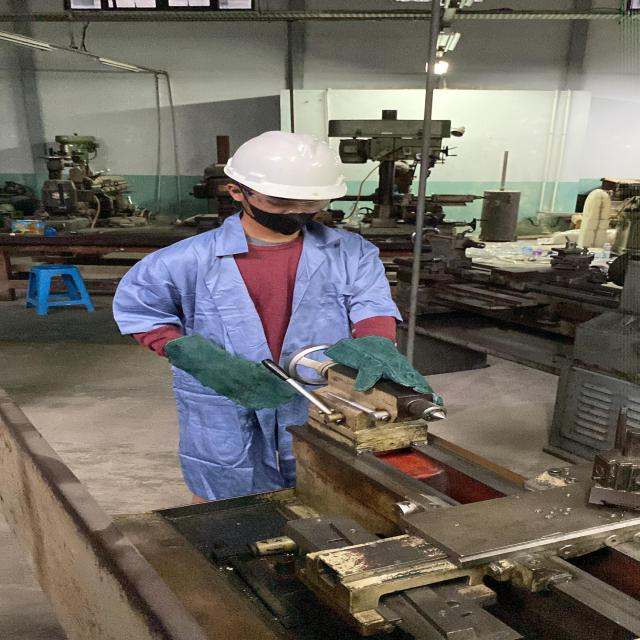face_mask: (244, 193, 334, 237)
glasses: (243, 192, 332, 215)
hand_glove: (343, 346, 452, 406), (203, 355, 305, 417)
head_helmet: (220, 129, 348, 204)
person: (112, 125, 423, 514)
